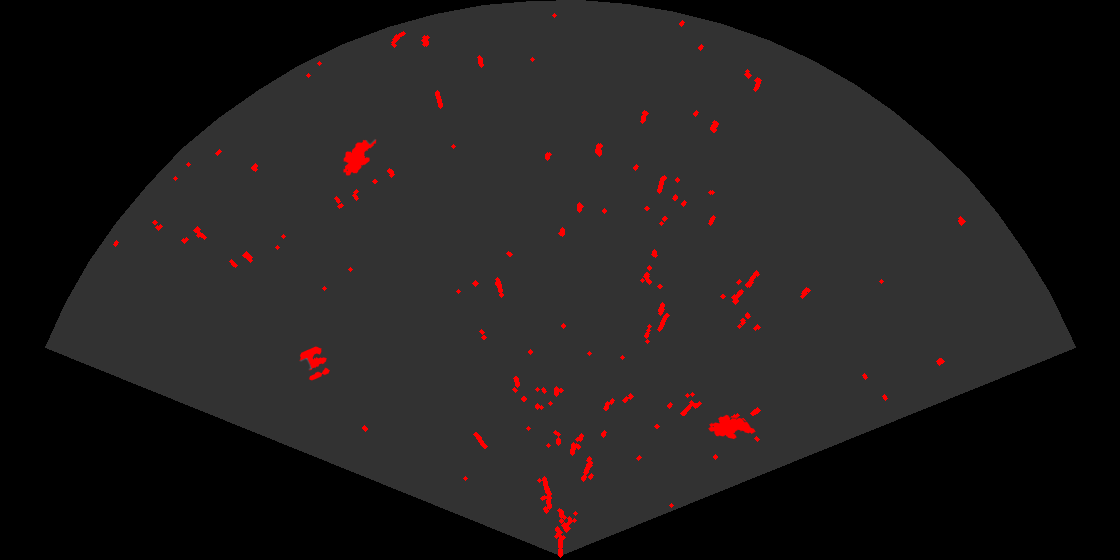AUV: (342, 138, 378, 177), (707, 413, 757, 441)
ball: (298, 345, 331, 382)
